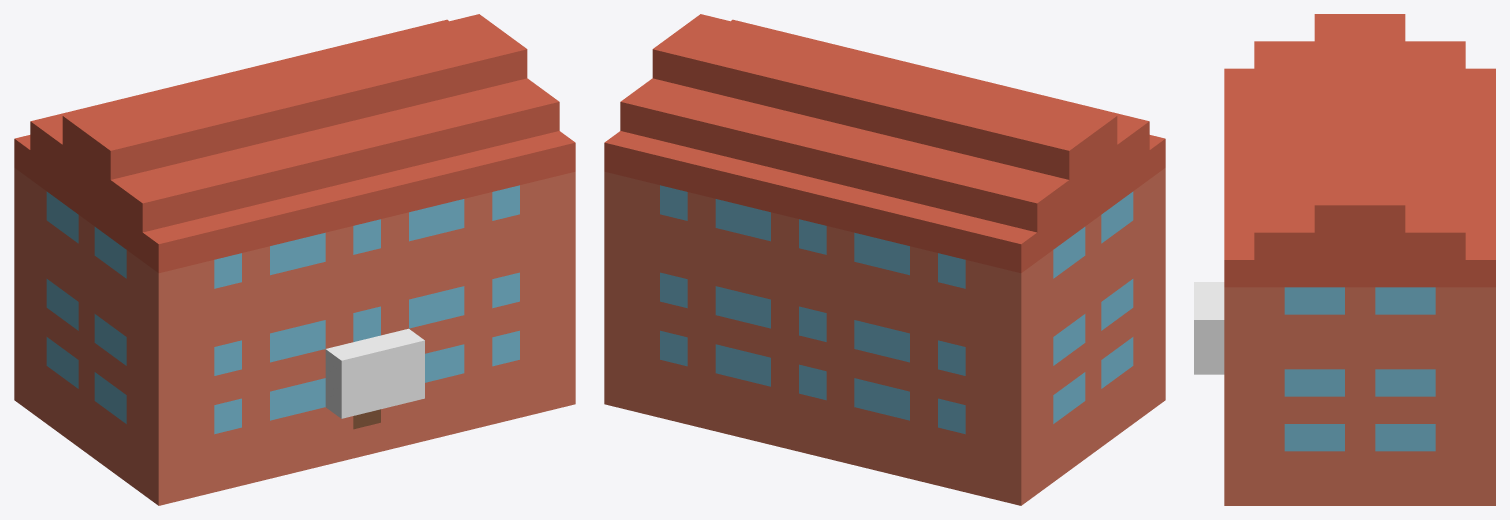
File: apartment_3.glb
The picture shows the model from 3 angles, left to right: view 1: azimuth 30°, elevation 25°; view 2: azimuth 150°, elevation 25°; view 3: azimuth 270°, elevation 25°; orthographic projection. The views are drawn at different scales.
Visible parts, largest first — view 1: apartment_3_brick, apartment_3_roof_red, apartment_3_window, apartment_3_white; view 2: apartment_3_brick, apartment_3_roof_red, apartment_3_window; view 3: apartment_3_roof_red, apartment_3_brick, apartment_3_window, apartment_3_white.
Boxes of the visible parts, bbox=[...] form: apartment_3_brick: bbox=[14, 168, 575, 505]; apartment_3_roof_red: bbox=[14, 14, 575, 273]; apartment_3_window: bbox=[46, 185, 519, 434]; apartment_3_white: bbox=[325, 328, 424, 418]; apartment_3_brick: bbox=[604, 168, 1165, 505]; apartment_3_roof_red: bbox=[604, 14, 1165, 273]; apartment_3_window: bbox=[660, 185, 1133, 434]; apartment_3_roof_red: bbox=[1224, 14, 1495, 287]; apartment_3_brick: bbox=[1224, 287, 1495, 505]; apartment_3_window: bbox=[1284, 287, 1435, 451]; apartment_3_white: bbox=[1194, 282, 1224, 374].
Size of the model in its own units: 18.29 by 13.42 by 12.2.
